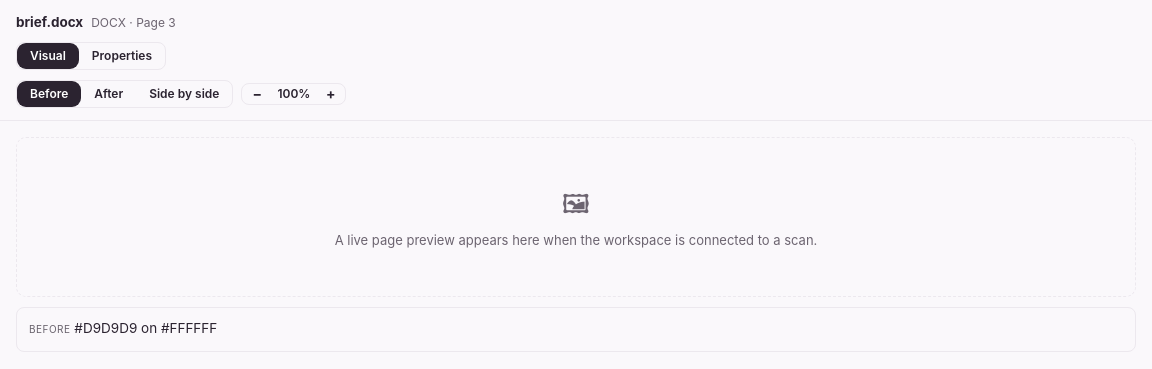
Test: RemediationPreview — contextual document pane › the After view shows the proposed change and that it re-validates on approval
Click the tab "After" at (109, 94), box [81,81,136,107]
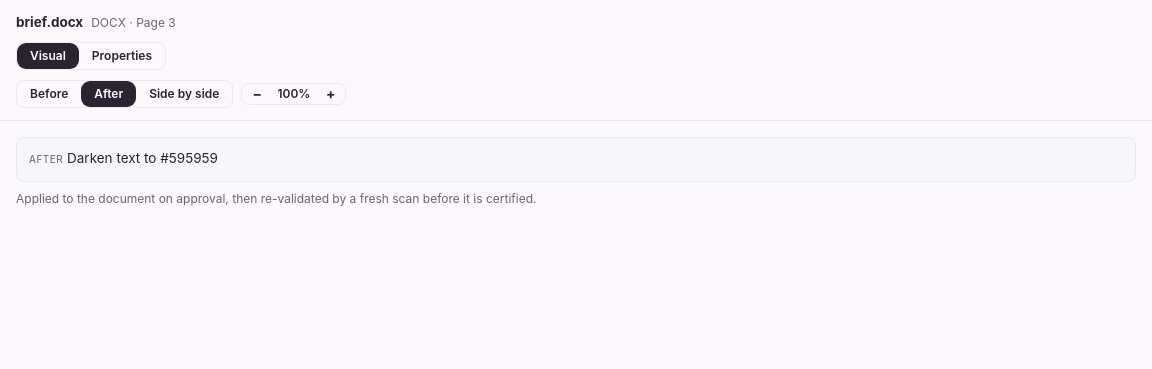
Now the text "Darken text to #595959" is shown, box [67,150,218,166]
Now the text "re-validated by a fresh scan" is shown, box [16,191,536,206]
